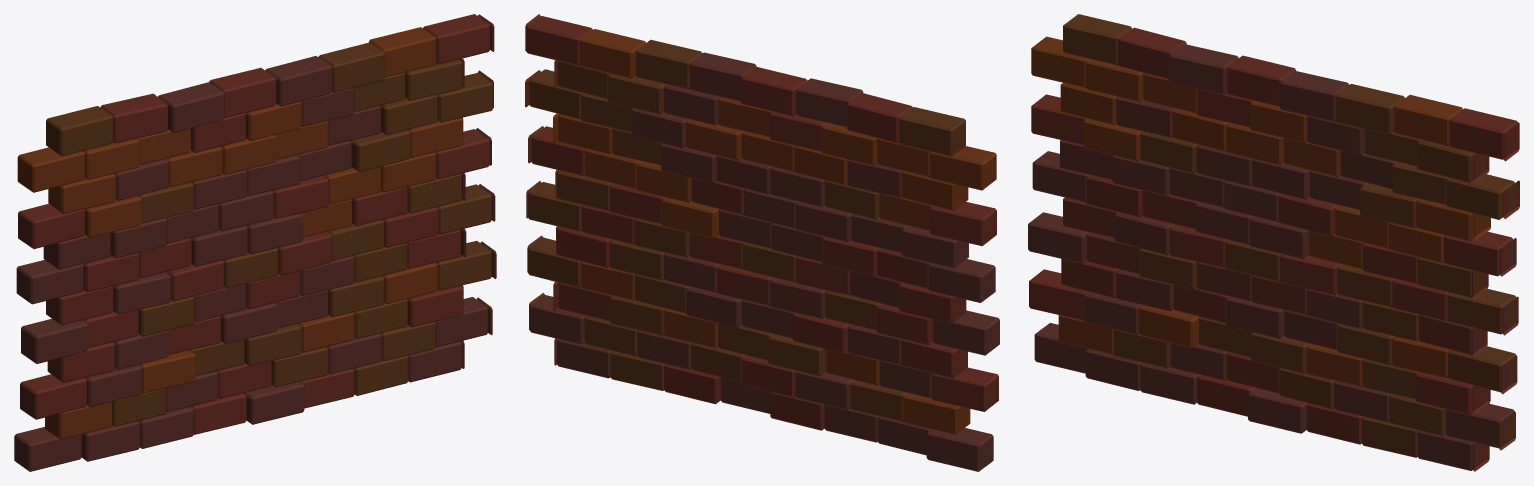
File: wall.fbx
The picture shows the model from 3 angles, left to right: view 1: azimuth 30°, elevation 25°; view 2: azimuth 150°, elevation 25°; view 3: azimuth 330°, elevation 25°; orthographic projection. The views are drawn at different scales.
Parts seen in each view (by area): view 1: Cube; view 2: Cube; view 3: Cube.
Boxes of the visible parts, <box> form: Cube: <box>14,14,496,471</box>; Cube: <box>525,14,999,471</box>; Cube: <box>1028,14,1519,471</box>.
Bounding box in the file's own units: 550 × 384 × 47.67.
